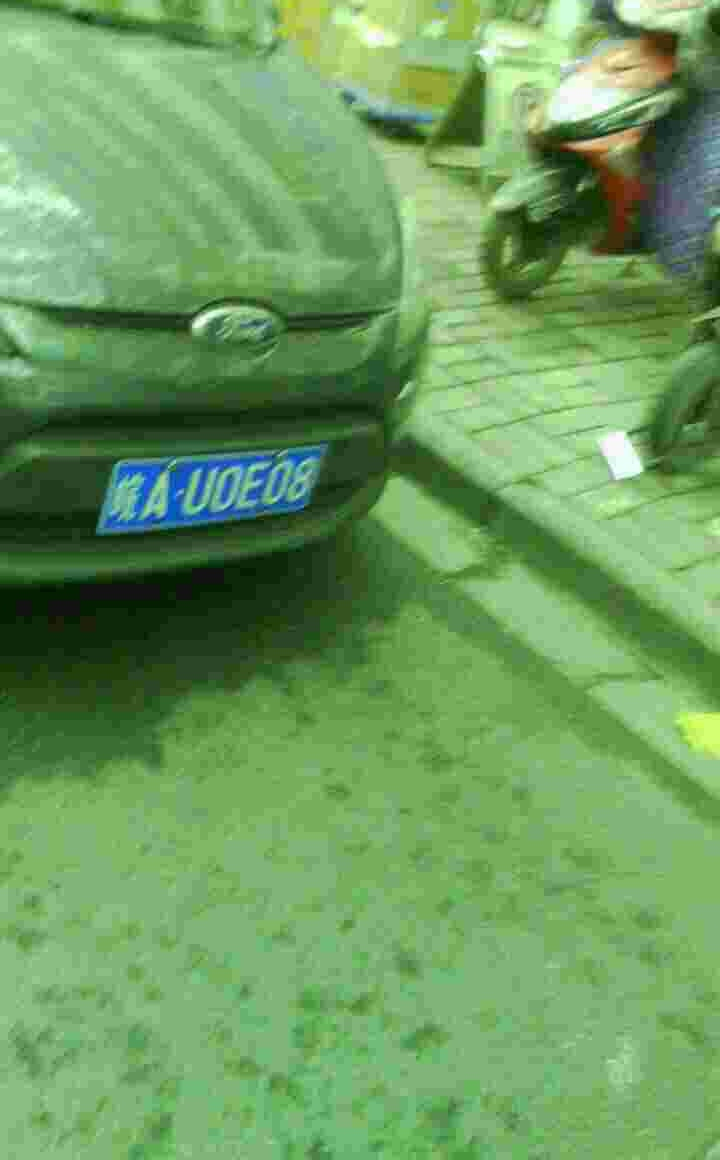license_plate: (106, 443, 329, 537)
